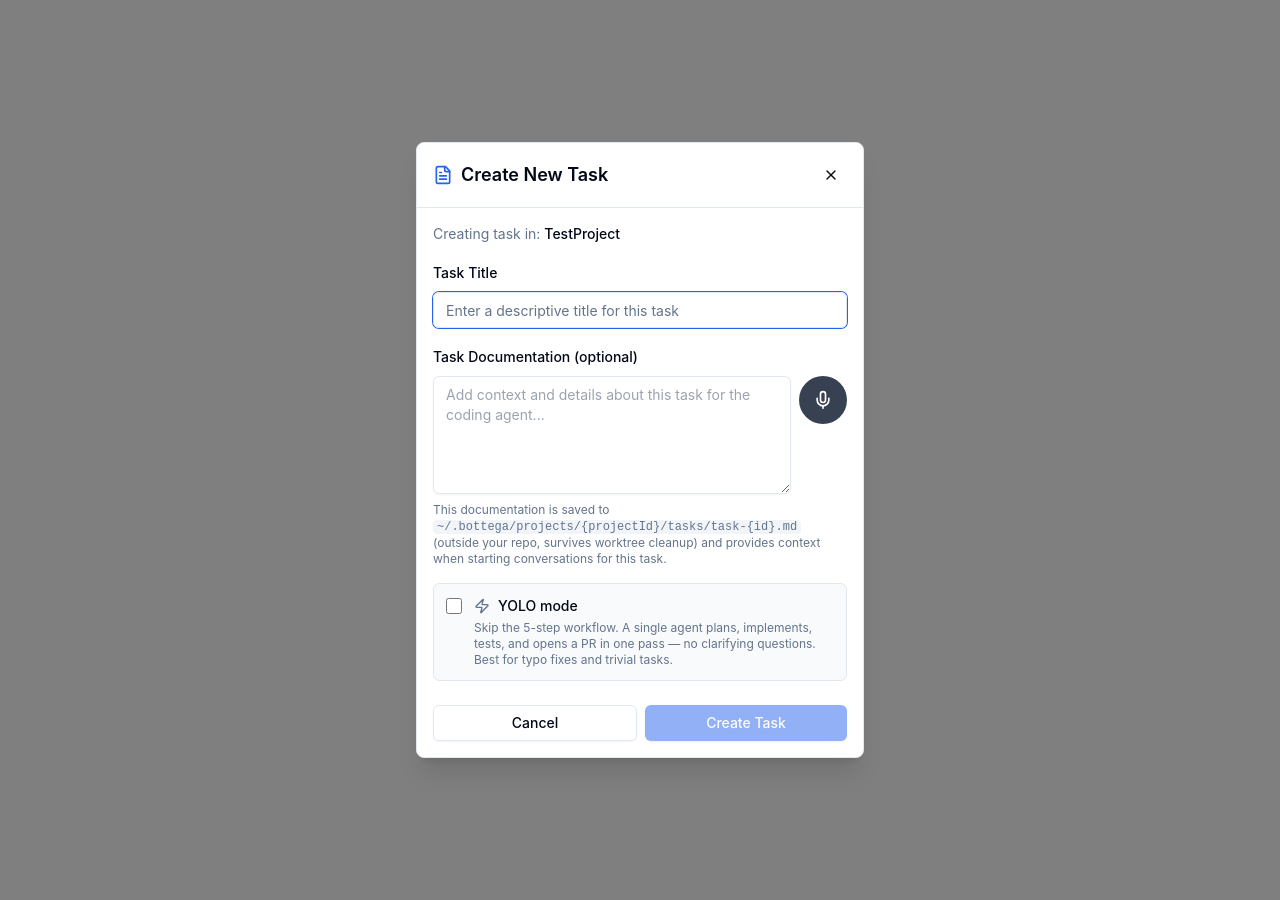
it: TaskForm voice transcription › inserts the transcript and focuses the textarea on a fine pointer (desktop)
Click the button named "Start voice recording" at point(823, 400), box [799,376,847,424]
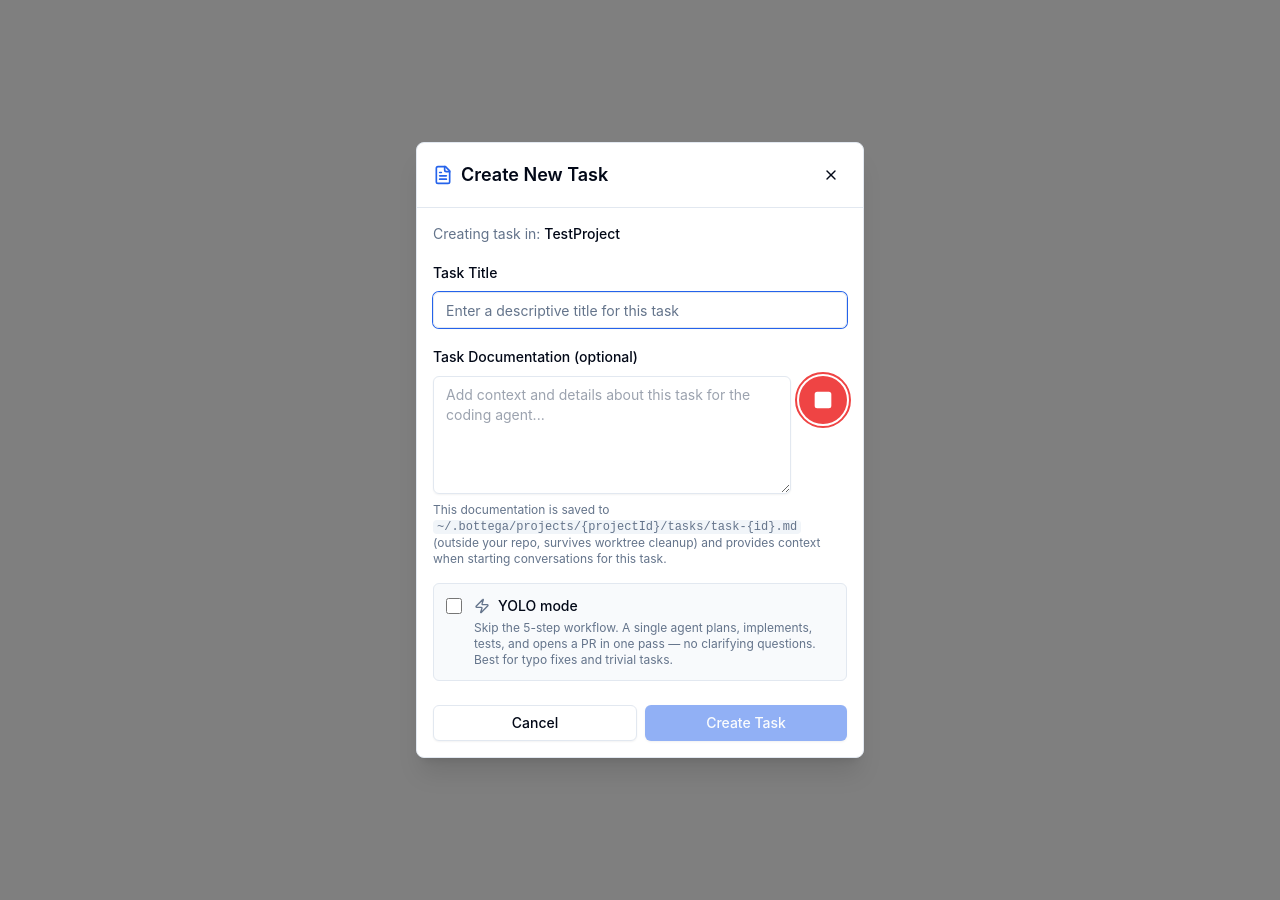
Click the button named "Stop recording" at point(823, 400), box [799,376,847,424]
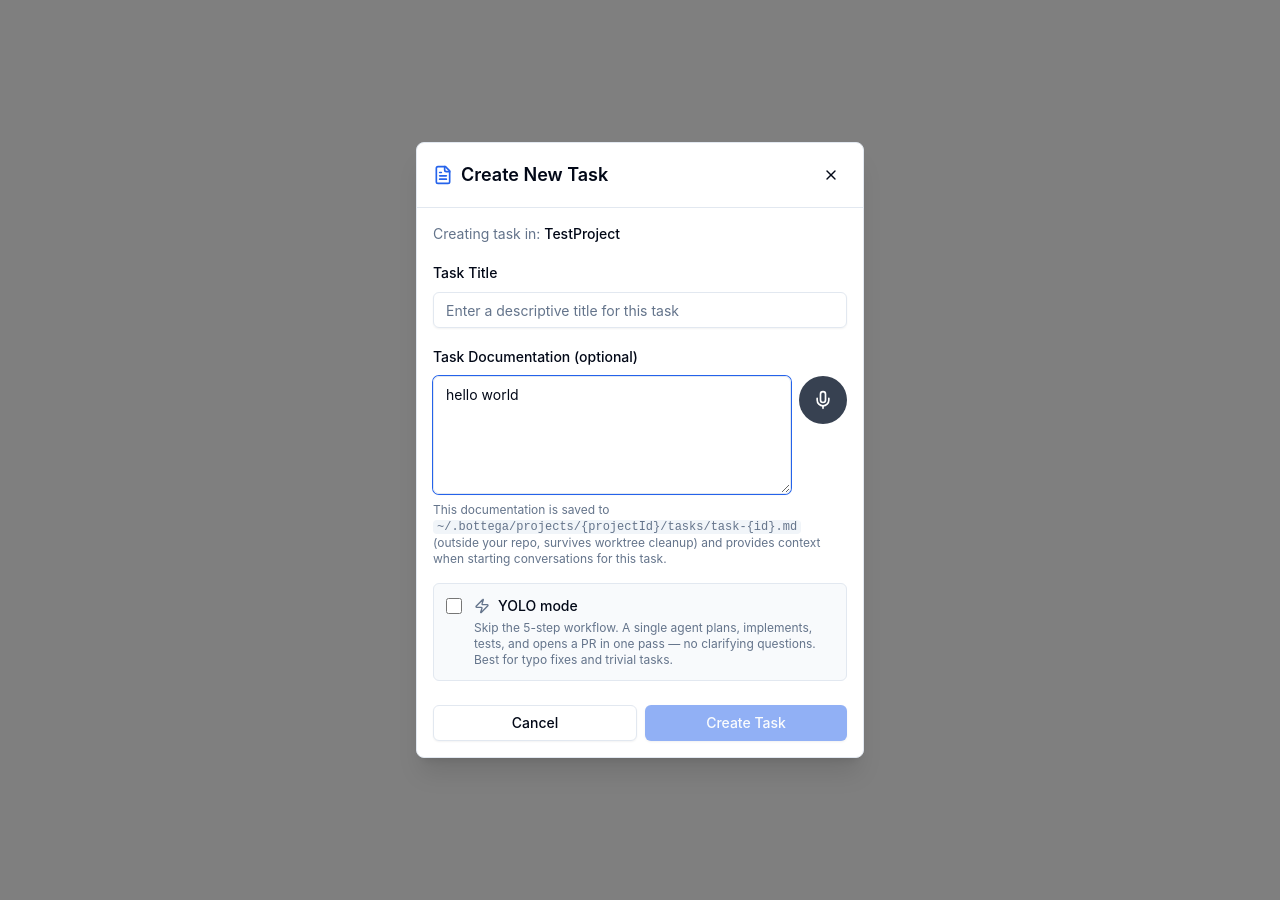
Check: the text box with id "task-documentation" holds "hello world", box [433,376,791,494]
